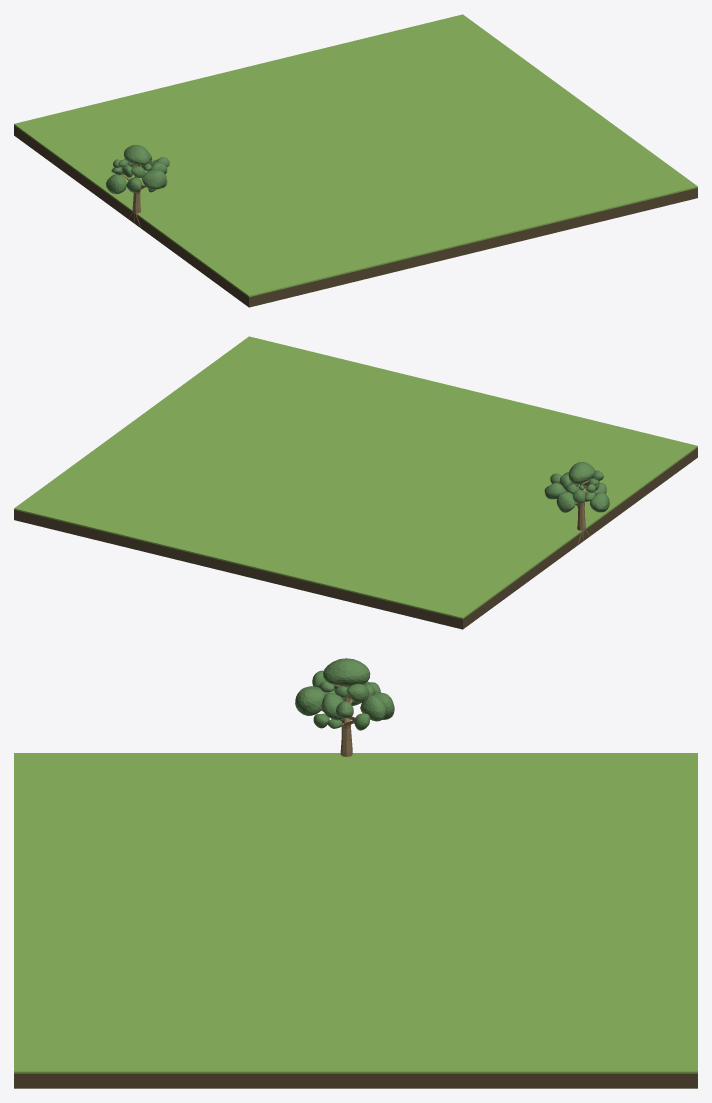
Rendered from full_scene.glb.
3 renders of one model, top to bottom at view 1: azimuth 30°, elevation 25°; view 2: azimuth 150°, elevation 25°; view 3: azimuth 270°, elevation 25°, orthographic. The views are drawn at different scales.
Visible parts, largest first — view 1: Cube.001, Cube.004; view 2: Cube.001, Cube.004; view 3: Cube.001, Cube.004, Icosphere.045, Icosphere.041.
Part boxes in pixels (x1,y1,x2,y2): Cube.001: [14, 14, 697, 297]; Cube.004: [14, 125, 697, 307]; Cube.001: [14, 336, 697, 619]; Cube.004: [14, 447, 697, 629]; Cube.001: [14, 753, 697, 1073]; Cube.004: [14, 1073, 697, 1088]; Icosphere.045: [323, 658, 370, 686]; Icosphere.041: [295, 686, 325, 715].
Size of the model in its own units: 155 by 24.13 by 133.
